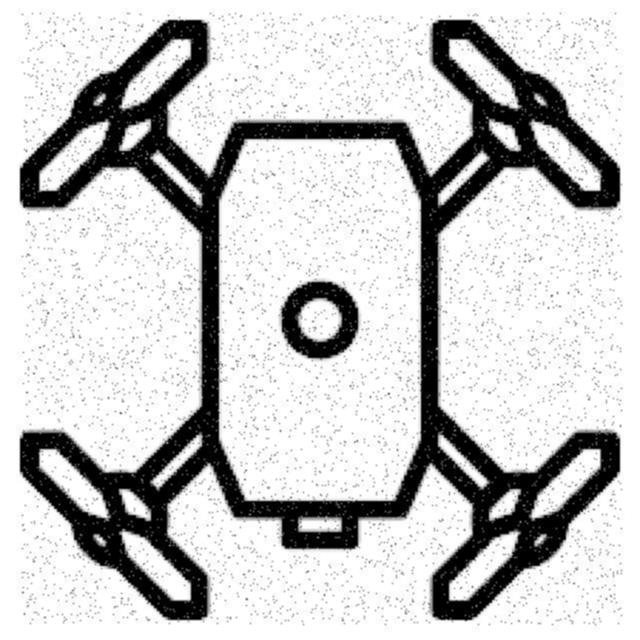drone: (23, 14, 623, 626)
